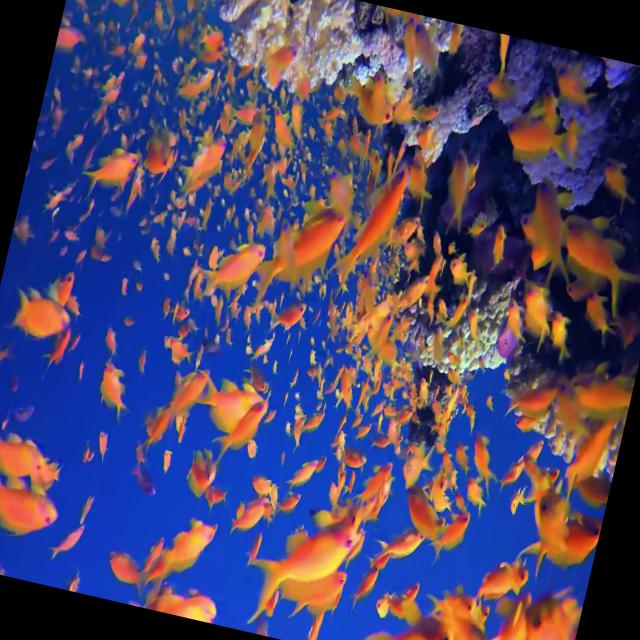fish: (246, 501, 352, 623), (197, 222, 270, 318), (278, 194, 350, 282), (0, 467, 65, 544), (7, 286, 75, 348)
